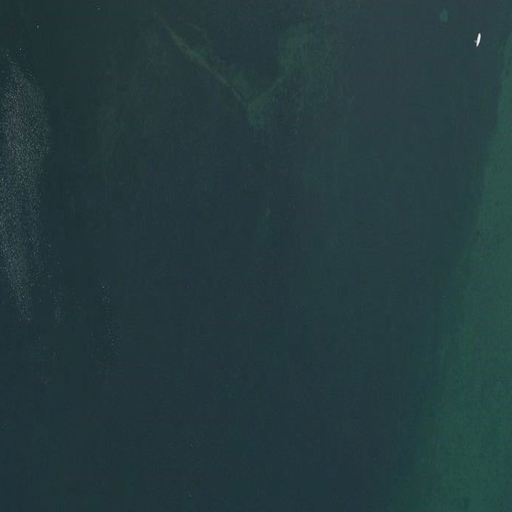ship: (475, 32, 481, 47)
